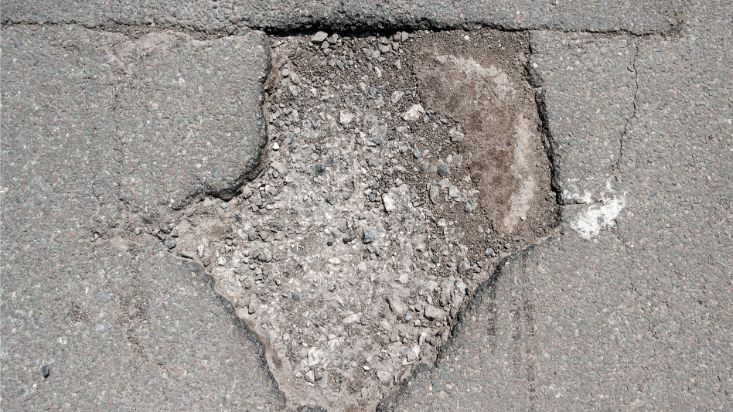pothole: (149, 13, 574, 412)
